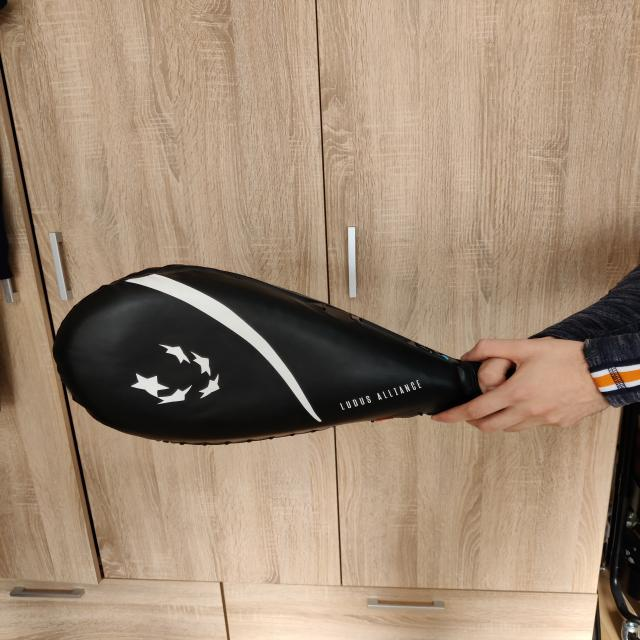paddle: (49, 262, 472, 447)
